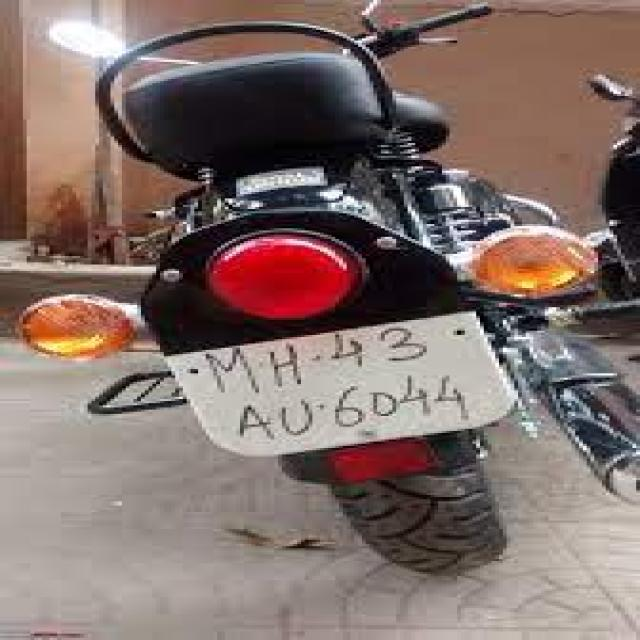number plate: (160, 307, 518, 457)
